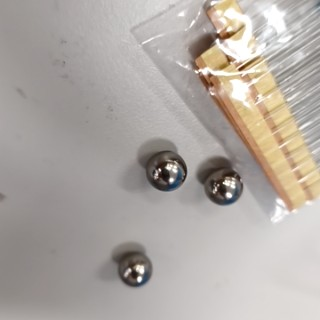ironball: (133, 135, 192, 200), (112, 241, 165, 302), (201, 159, 245, 223)
